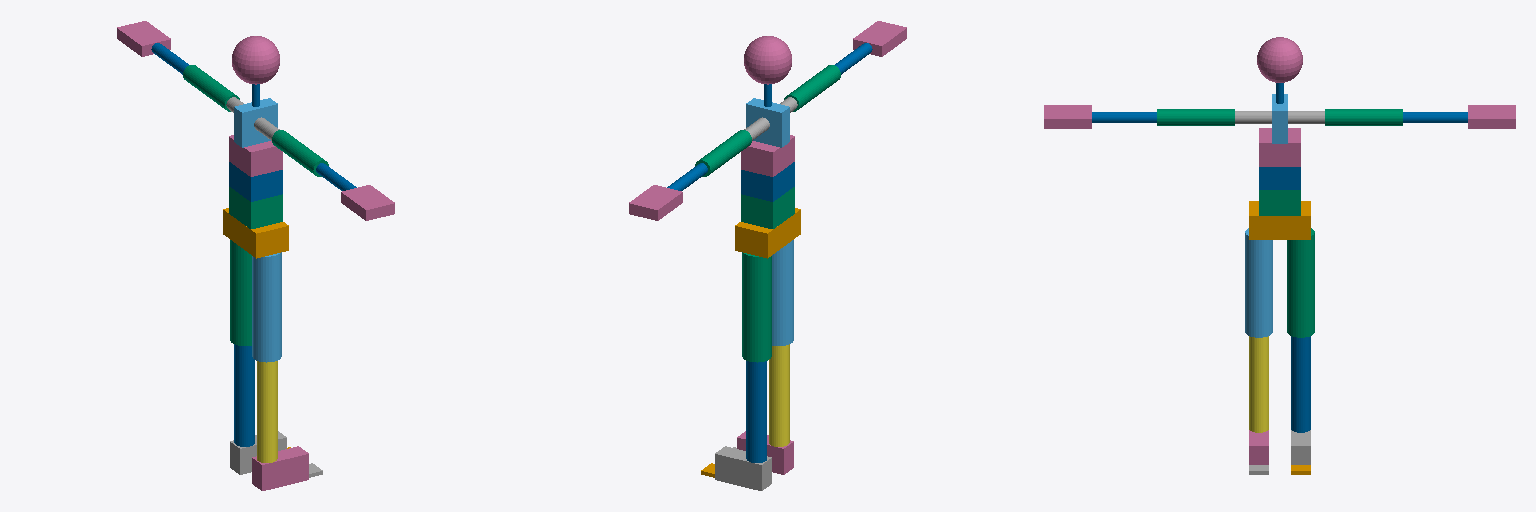
--- What the picture shows (computed from the rendered views, not written in the file) ---
Views: 3 orthographic renders of the robot side by side, from view 1: azimuth 30°, elevation 25°; view 2: azimuth 150°, elevation 25°; view 3: azimuth 270°, elevation 25°.
Model XSensStyleModel_template with 49 links and 48 joints (48 revolute), rooted at Pelvis, posed every joint at zero.
Visible links, largest first — view 1: RightUpperLeg, LeftUpperLeg, RightLowerLeg, LeftLowerLeg, Head, Pelvis, RightFoot, T12, L5, T8, L3, RightHand (+4 smaller); view 2: LeftUpperLeg, RightUpperLeg, LeftLowerLeg, RightLowerLeg, Head, Pelvis, LeftFoot, T12, L5, T8, L3, LeftHand (+4 smaller); view 3: RightUpperLeg, LeftUpperLeg, RightLowerLeg, LeftLowerLeg, Pelvis, Head, T12, RightUpperArm, LeftUpperArm, RightHand, LeftHand, L5 (+6 smaller).
Boxes of the visible links, box(x1,y1,x2,y2) form: RightUpperLeg: box(252, 252, 281, 362); LeftUpperLeg: box(230, 240, 251, 345); RightLowerLeg: box(257, 361, 277, 462); LeftLowerLeg: box(234, 344, 254, 446); Head: box(232, 36, 279, 84); Pelvis: box(223, 208, 288, 258); RightFoot: box(252, 446, 308, 490); T12: box(229, 135, 282, 176); L5: box(229, 187, 282, 228); T8: box(234, 98, 277, 147); L3: box(229, 162, 282, 201); RightHand: box(341, 185, 394, 220); LeftUpperLeg: box(742, 252, 771, 362); RightUpperLeg: box(772, 240, 793, 345); LeftLowerLeg: box(746, 361, 766, 462); RightLowerLeg: box(769, 344, 789, 446); Head: box(744, 36, 791, 84); Pelvis: box(735, 208, 800, 258); LeftFoot: box(715, 446, 771, 490); T12: box(741, 135, 794, 176); L5: box(741, 187, 794, 228); T8: box(746, 98, 789, 147); L3: box(741, 162, 794, 201); LeftHand: box(629, 185, 682, 220); RightUpperLeg: box(1245, 228, 1272, 337); LeftUpperLeg: box(1287, 228, 1314, 337); RightLowerLeg: box(1249, 336, 1268, 432); LeftLowerLeg: box(1291, 336, 1310, 432); Pelvis: box(1249, 201, 1310, 239); Head: box(1257, 37, 1302, 82); T12: box(1259, 128, 1300, 166); RightUpperArm: box(1157, 109, 1234, 125); LeftUpperArm: box(1325, 109, 1402, 125); RightHand: box(1044, 105, 1091, 128); LeftHand: box(1468, 105, 1515, 128); L5: box(1259, 190, 1300, 215).
Size in the robot's own frame: 0.2995 by 1.8 by 1.74 metres.
Geometry: primitives only (box / cylinder / sphere), no mesh files.

robot.urdf — XSensStyleModel_template:
<robot name="XSensStyleModel_template">
<!--To open this model with Gazebo replace the null masses, inertias and dimensions of the 'fake links f1 and f2'-->
    <!--LINKS-->
	<!--Link base (1)-->
	<link name="Pelvis">
        <inertial>
            <mass value="4.9968"/>
			<!--COM origin wrt pHipOrigin-->
            <origin xyz="0           0    0.049333" rpy="0 0 0" />
            <inertia ixx="0.028067" iyy="0.011715" izz="0.031651" ixy="0" ixz="0" iyz="0"/>
        </inertial>

        <visual>
			<!--box origin wrt pHipOrigin-->
            <origin xyz="0           0    0.049333" rpy="0 0 0" />
            <geometry>
                <box size="0.13554     0.24008    0.098815"/>
            </geometry>
        </visual>

        <collision>
			<!--box origin wrt pHipOrigin-->
            <origin xyz="0           0    0.049333" rpy="0 0 0" />
            <geometry>
                <box size="0.13554     0.24008    0.098815"/>
            </geometry>
        </collision>

    </link>
    <!--Chain from (2) to (7)-->
	<link name="L5_f1">
        <inertial>
            <mass value="0.0001"/>
            <origin xyz="0 0 0" rpy="0 0 0" />
            <inertia ixx="0.0003" iyy="0.0003" izz="0.0003" ixy="0" ixz="0" iyz="0"/>
        </inertial>
    </link>
	<link name="L5">
        <inertial>
            <mass value="6.3709"/>
			<!--COM origin wrt jL5S1-->
            <origin xyz="0           0    0.054602" rpy="0 0 0" />
            <inertia ixx="0.047176" iyy="0.03559" izz="0.069139" ixy="0" ixz="0" iyz="0"/>
        </inertial>

        <visual>
			<!--box origin origin wrt jL5S1-->
            <origin xyz="0           0    0.054602" rpy="0 0 0" />
            <geometry>
                <box size="0.13554     0.16014      0.1092"/>
            </geometry>
        </visual>

        <collision>
			<!--box origin origin wrt jL5S1-->
            <origin xyz="0           0    0.054602" rpy="0 0 0" />
            <geometry>
                <box size="0.13554     0.16014      0.1092"/>
            </geometry>
        </collision>
    </link>
	<link name="L3_f1">
        <inertial>
            <mass value="0.0001"/>
            <origin xyz="0 0 0" rpy="0 0 0" />
            <inertia ixx="0.0003" iyy="0.0003" izz="0.0003" ixy="0" ixz="0" iyz="0"/>
        </inertial>
    </link>
	<link name="L3">
        <inertial>
            <mass value="6.3709"/>
			<!--COM origin wrt jL4L3-->
            <origin xyz="0           0    0.049336" rpy="0 0 0" />
            <inertia ixx="0.046013" iyy="0.034427" izz="0.069139" ixy="0" ixz="0" iyz="0"/>
        </inertial>

        <visual>
			<!--box origin origin wrt jL4L3-->
            <origin xyz="0           0    0.049336" rpy="0 0 0" />
            <geometry>
                <box size="0.13554     0.16014    0.098672"/>
            </geometry>
        </visual>

        <collision>
			<!--box origin origin wrt jL4L3-->
            <origin xyz="0           0    0.049336" rpy="0 0 0" />
            <geometry>
                <box size="0.13554     0.16014    0.098672"/>
            </geometry>
        </collision>
    </link>
	<link name="T12_f1">
        <inertial>
            <mass value="0.0001"/>
            <origin xyz="0 0 0" rpy="0 0 0" />
            <inertia ixx="0.0003" iyy="0.0003" izz="0.0003" ixy="0" ixz="0" iyz="0"/>
        </inertial>
    </link>
	<link name="T12">
        <inertial>
            <mass value="6.3709"/>
			<!--COM origin wrt jL1T12-->
            <origin xyz="0           0    0.049336" rpy="0 0 0" />
            <inertia ixx="0.046013" iyy="0.034427" izz="0.069139" ixy="0" ixz="0" iyz="0"/>
        </inertial>

        <visual>
			<!--box origin origin wrt jL1T12-->
            <origin xyz="0           0    0.049336" rpy="0 0 0" />
            <geometry>
                <box size="0.13554     0.16014    0.098672"/>
            </geometry>
        </visual>

        <collision>
			<!--box origin origin wrt jL1T12-->
            <origin xyz="0           0    0.049336" rpy="0 0 0" />
            <geometry>
                <box size="0.13554     0.16014    0.098672"/>
            </geometry>
        </collision>
    </link>
	<link name="T8_f1">
        <inertial>
            <mass value="0.0001"/>
            <origin xyz="0 0 0" rpy="0 0 0" />
            <inertia ixx="0.0003" iyy="0.0003" izz="0.0003" ixy="0" ixz="0" iyz="0"/>
        </inertial>
    </link>
	<link name="T8_f2">
        <inertial>
            <mass value="0.0001"/>
            <origin xyz="0 0 0" rpy="0 0 0" />
            <inertia ixx="0.0003" iyy="0.0003" izz="0.0003" ixy="0" ixz="0" iyz="0"/>
        </inertial>
    </link>
	<link name="T8">
        <inertial>
            <mass value="2.4984"/>
			<!--COM origin wrt jT9T8-->
            <origin xyz="0           0    0.069461" rpy="0 0 0" />
            <inertia ixx="0.0047729" iyy="0.0087452" izz="0.0054818" ixy="0" ixz="0" iyz="0"/>
        </inertial>

        <visual>
			<!--box origin wrt jT9T8-->
            <origin xyz="0           0    0.069461" rpy="0 0 0" />
            <geometry>
                <box size="0.15068     0.06021     0.13892"/>
            </geometry>
        </visual>

        <collision>
			<!--box origin wrt jT9T8-->
            <origin xyz="0           0    0.069461" rpy="0 0 0" />
            <geometry>
                <box size="0.15068     0.06021     0.13892"/>
            </geometry>
        </collision>

    </link>
	<link name="Neck_f1">
        <inertial>
            <mass value="0.0001"/>
            <origin xyz="0 0 0" rpy="0 0 0" />
            <inertia ixx="0.0003" iyy="0.0003" izz="0.0003" ixy="0" ixz="0" iyz="0"/>
        </inertial>
    </link>
	<link name="Neck_f2">
        <inertial>
            <mass value="0.0001"/>
            <origin xyz="0 0 0" rpy="0 0 0" />
            <inertia ixx="0.0003" iyy="0.0003" izz="0.0003" ixy="0" ixz="0" iyz="0"/>
        </inertial>
    </link>
	<link name="Neck">
        <inertial>
            <mass value="0.74952"/>
			<!--COM origin wrt jT1C7-->
            <origin xyz="0           0    0.045917" rpy="0 0 0" />
            <inertia ixx="0.0006888" iyy="0.0006888" izz="0.00032408" ixy="0" ixz="0" iyz="0"/>
        </inertial>

        <visual>
			<!--box origin wrt jT1C7-->
            <origin xyz="0           0    0.045917" rpy="0 0 0" />
            <geometry>
		<cylinder length="0.091834" radius="0.014704"/>
            </geometry>
        </visual>

        <collision>
			<!--box origin wrt jT1C7-->
            <origin xyz="0           0    0.045917" rpy="0 0 0" />
            <geometry>
                <cylinder length="0.091834" radius="0.014704"/>
            </geometry>
        </collision>
    </link>
	<link name="Head_f1">
        <inertial>
            <mass value="0.0001"/>
            <origin xyz="0 0 0" rpy="0 0 0" />
            <inertia ixx="0.0003" iyy="0.0003" izz="0.0003" ixy="0" ixz="0" iyz="0"/>
        </inertial>
    </link>
	<link name="Head">
        <inertial>
            <mass value="2.2486"/>
			<!--COM origin wrt jC1Head-->
            <origin xyz="0           0    0.087994" rpy="0 0 0" />
            <inertia ixx="0.0069641" iyy="0.0069641" izz="0.0069641" ixy="0" ixz="0" iyz="0"/>
        </inertial>

        <visual>
			<!--boc origin wrt jC1Head-->
            <origin xyz="0           0    0.087994" rpy="0 0 0" />
            <geometry>
                <sphere radius="0.087994"/>
            </geometry>
        </visual>

        <collision>
			<!--box origin wrt jC1Head-->
            <origin xyz="0           0    0.087994" rpy="0 0 0" />
            <geometry>
                <sphere radius="0.087994"/>
            </geometry>
        </collision>

    </link>
	<!--Chain from (8) to (11)-->
	<link name="RightShoulder">
        <inertial>
            <mass value="1.9363"/>
			<!--COM origin wrt jRightC7Shoulder-->
            <origin xyz="0   -0.069978           0" rpy="0 0 0" />
            <inertia ixx="0.0034631" iyy="0.00060506" izz="0.0034631" ixy="0" ixz="0" iyz="0"/>
        </inertial>

        <visual>
			<!--box origin wrt jRightC7Shoulder. RPY rotated of pi/2.-->
            <origin xyz="0   -0.069978           0" rpy="1.5708 0 0" />
            <geometry>
                <cylinder length="0.13996" radius="0.025"/>
            </geometry>
        </visual>

        <collision>
			<!--box origin wrt jRightC7Shoulder. RPY rotated of pi/2.-->
            <origin xyz="0   -0.069978           0" rpy="1.5708 0 0" />
            <geometry>
                <cylinder length="0.13996" radius="0.025"/>
            </geometry>
        </collision>

    </link>
	<link name="RightUpperArm_f1">
        <inertial>
            <mass value="0.0001"/>
            <origin xyz="0 0 0" rpy="0 0 0" />
            <inertia ixx="0.0003" iyy="0.0003" izz="0.0003" ixy="0" ixz="0" iyz="0"/>
        </inertial>
    </link>
	<link name="RightUpperArm_f2">
        <inertial>
            <mass value="0.0001"/>
            <origin xyz="0 0 0" rpy="0 0 0" />
            <inertia ixx="0.0003" iyy="0.0003" izz="0.0003" ixy="0" ixz="0" iyz="0"/>
        </inertial>
    </link>
    <link name="RightUpperArm">
        <inertial>
            <mass value="1.8738"/>
			<!--COM origin wrt jRightShoulder-->
            <origin xyz="0    -0.15002           0" rpy="0 0 0" />
            <inertia ixx="0.014553" iyy="0.014553" izz="0.00099006" ixy="0" ixz="0" iyz="0"/>
        </inertial>

        <visual>
			<!--box origin wrt jRightShoulder. RPY rotated of pi/2.-->
            <origin xyz="0    -0.15002           0" rpy="1.5708 0 0" />
            <geometry>
                <cylinder length="0.30005" radius="0.032507"/>
            </geometry>
        </visual>

        <collision>
			<!--box origin wrt jRightShoulder. RPY rotated of pi/2.-->
            <origin xyz="0    -0.15002           0" rpy="1.5708 0 0" />
            <geometry>
                <cylinder length="0.30005" radius="0.032507"/>
            </geometry>
        </collision>

    </link>
	<link name="RightForeArm_f1">
        <inertial>
            <mass value="0.0001"/>
            <origin xyz="0 0 0" rpy="0 0 0" />
            <inertia ixx="0.0003" iyy="0.0003" izz="0.0003" ixy="0" ixz="0" iyz="0"/>
        </inertial>
    </link>
	<link name="RightForeArm">
        <inertial>
            <mass value="1.2492"/>
			<!--COM origin wrt jRightElbow-->
            <origin xyz="0    -0.12263           0" rpy="0 0 0" />
            <inertia ixx="0.0064089" iyy="0.0064089" izz="0.00029335" ixy="0" ixz="0" iyz="0"/>
        </inertial>

        <visual>
			<!--box origin wrt jRightElbow. RPY rotated of pi/2.-->
            <origin xyz="0    -0.12263           0" rpy="1.5708 0 0" />
            <geometry>
                <cylinder length="0.24527" radius="0.021672"/>
            </geometry>
        </visual>

        <collision>
			<!--box origin wrt jRightElbow. RPY rotated of pi/2.-->
            <origin xyz="0    -0.12263           0" rpy="1.5708 0 0" />
            <geometry>
                <cylinder length="0.24527" radius="0.021672"/>
            </geometry>
        </collision>

    </link>
	<link name="RightHand_f1">
        <inertial>
            <mass value="0.0001"/>
            <origin xyz="0 0 0" rpy="0 0 0" />
            <inertia ixx="0.0003" iyy="0.0003" izz="0.0003" ixy="0" ixz="0" iyz="0"/>
        </inertial>
    </link>
	<link name="RightHand">
        <inertial>
            <mass value="0.37476"/>
			<!--COM origin wrt jRightWrist-->
            <origin xyz="0   -0.091535           0" rpy="0 0 0" />
            <inertia ixx="0.0011053" iyy="0.00052385" izz="0.0015118" ixy="0" ixz="0" iyz="0"/>
        </inertial>

        <visual>
			<!--box origin wrt jRightWrist-->
            <origin xyz="0   -0.091535           0" rpy="0 0 0" />
            <geometry>
                <box size="0.12205     0.18307    0.043343"/>
            </geometry>
        </visual>

        <collision>
			<!--box origin wrt jRightWrist-->
            <origin xyz="0   -0.091535           0" rpy="0 0 0" />
            <geometry>
                <box size="0.12205     0.18307    0.043343"/>
            </geometry>
        </collision>

    </link>
	<!--Chain from (12) to (15)-->
	<link name="LeftShoulder">
        <inertial>
            <mass value="1.9363"/>
			<!--COM origin wrt jLeftC7Shoulder-->
            <origin xyz="0    0.069978           0" rpy="0 0 0" />
            <inertia ixx="0.0034631" iyy="0.00060506" izz="0.0034631" ixy="0" ixz="0" iyz="0"/>
        </inertial>

        <visual>
			<!--box origin wrt jLeftC7Shoulder. RPY rotated of pi/2.-->
            <origin xyz="0    0.069978           0" rpy="1.5708 0 0" />
            <geometry>
                <cylinder length="0.13996" radius="0.025"/>
            </geometry>
        </visual>

        <collision>
			<!--box origin wrt jLeftC7Shoulder. RPY rotated of pi/2.-->
            <origin xyz="0    0.069978           0" rpy="1.5708 0 0" />
            <geometry>
                <cylinder length="0.13996" radius="0.025"/>
            </geometry>
        </collision>

    </link>
	<link name="LeftUpperArm_f1">
        <inertial>
            <mass value="0.0001"/>
            <origin xyz="0 0 0" rpy="0 0 0" />
            <inertia ixx="0.0003" iyy="0.0003" izz="0.0003" ixy="0" ixz="0" iyz="0"/>
        </inertial>
    </link>
	<link name="LeftUpperArm_f2">
        <inertial>
            <mass value="0.0001"/>
            <origin xyz="0 0 0" rpy="0 0 0" />
            <inertia ixx="0.0003" iyy="0.0003" izz="0.0003" ixy="0" ixz="0" iyz="0"/>
        </inertial>
    </link>
	<link name="LeftUpperArm">
        <inertial>
            <mass value="1.8738"/>
			<!--COM origin wrt jLeftShoulder-->
            <origin xyz="0     0.15002           0" rpy="0 0 0" />
            <inertia ixx="0.014553" iyy="0.014553" izz="0.00099006" ixy="0" ixz="0" iyz="0"/>
        </inertial>

        <visual>
			<!--box origin wrt jLeftShoulder. RPY rotated of pi/2.-->
            <origin xyz="0     0.15002           0" rpy="1.5708 0 0" />
            <geometry>
                <cylinder length="0.30005" radius="0.032507"/>
            </geometry>
        </visual>

        <collision>
			<!--box origin wrt jLeftShoulder. RPY rotated of pi/2.-->
            <origin xyz="0     0.15002           0" rpy="1.5708 0 0" />
            <geometry>
                <cylinder length="0.30005" radius="0.032507"/>
            </geometry>
        </collision>

    </link>
	<link name="LeftForeArm_f1">
        <inertial>
            <mass value="0.0001"/>
            <origin xyz="0 0 0" rpy="0 0 0" />
            <inertia ixx="0.0003" iyy="0.0003" izz="0.0003" ixy="0" ixz="0" iyz="0"/>
        </inertial>
    </link>
	<link name="LeftForeArm">
        <inertial>
            <mass value="1.2492"/>
			<!--COM origin wrt jLeftElbow-->
            <origin xyz="0     0.12263           0" rpy="0 0 0" />
            <inertia ixx="0.0064089" iyy="0.0064089" izz="0.00029335" ixy="0" ixz="0" iyz="0"/>
        </inertial>

        <visual>
			<!--box origin wrt jLeftElbow. RPY rotated of pi/2.-->
            <origin xyz="0     0.12263           0" rpy="1.5708 0 0" />
            <geometry>
                <cylinder length="0.24527" radius="0.021672"/>
            </geometry>
        </visual>

        <collision>
			<!--box origin wrt jLeftElbow. RPY rotated of pi/2.-->
            <origin xyz="0     0.12263           0" rpy="1.5708 0 0" />
            <geometry>
                <cylinder length="0.24527" radius="0.021672"/>
            </geometry>
        </collision>

    </link>
	<link name="LeftHand_f1">
        <inertial>
            <mass value="0.0001"/>
            <origin xyz="0 0 0" rpy="0 0 0" />
            <inertia ixx="0.0003" iyy="0.0003" izz="0.0003" ixy="0" ixz="0" iyz="0"/>
        </inertial>
    </link>
	<link name="LeftHand">
        <inertial>
            <mass value="0.37476"/>
			<!--COM origin wrt jLeftWrist-->
            <origin xyz="0    0.091535           0" rpy="0 0 0" />
            <inertia ixx="0.0011053" iyy="0.00052385" izz="0.0015118" ixy="0" ixz="0" iyz="0"/>
        </inertial>

        <visual>
			<!--COM origin wrt jLeftWrist-->
            <origin xyz="0    0.091535           0" rpy="0 0 0" />
            <geometry>
                <box size="0.12205     0.18307    0.043343"/>
            </geometry>
        </visual>

        <collision>
			<!--COM origin wrt jLeftWrist-->
            <origin xyz="0    0.091535           0" rpy="0 0 0" />
            <geometry>
                <box size="0.12205     0.18307    0.043343"/>
            </geometry>
        </collision>

    </link>
	<!--Chain from (16) to (19)-->
	<link name="RightUpperLeg_f1">
        <inertial>
            <mass value="0.0001"/>
            <origin xyz="0 0 0" rpy="0 0 0" />
            <inertia ixx="0.0003" iyy="0.0003" izz="0.0003" ixy="0" ixz="0" iyz="0"/>
        </inertial>
    </link>
	<link name="RightUpperLeg_f2">
        <inertial>
            <mass value="0.0001"/>
            <origin xyz="0 0 0" rpy="0 0 0" />
            <inertia ixx="0.0003" iyy="0.0003" izz="0.0003" ixy="0" ixz="0" iyz="0"/>
        </inertial>
    </link>
    <link name="RightUpperLeg">
        <inertial>
            <mass value="7.8075"/>
			<!--COM origin wrt jRightHip-->
            <origin xyz="0           0    -0.21002" rpy="0 0 0" />
            <inertia ixx="0.12026" iyy="0.12026" izz="0.010935" ixy="0" ixz="0" iyz="0"/>
        </inertial>

        <visual>
			<!--box origin wrt jRightHip-->
            <origin xyz="0           0    -0.21002" rpy="0 0 0" />
            <geometry>
                <cylinder length="0.42004" radius="0.052927"/>
            </geometry>
        </visual>

        <collision>
			<!--box origin wrt jRightHip-->
            <origin xyz="0           0    -0.21002" rpy="0 0 0" />
            <geometry>
                <cylinder length="0.42004" radius="0.052927"/>
            </geometry>
        </collision>

    </link>
	<link name="RightLowerLeg_f1">
        <inertial>
            <mass value="0.0001"/>
            <origin xyz="0 0 0" rpy="0 0 0" />
            <inertia ixx="0.0003" iyy="0.0003" izz="0.0003" ixy="0" ixz="0" iyz="0"/>
        </inertial>
    </link>
    <link name="RightLowerLeg">
        <inertial>
            <mass value="2.2798"/>
			<!--COM origin wrt jRightKnee-->
            <origin xyz="0           0    -0.20367" rpy="0 0 0" />
            <inertia ixx="0.032328" iyy="0.032328" izz="0.0016104" ixy="0" ixz="0" iyz="0"/>
        </inertial>

        <visual>
			<!--box origin wrt jRightKnee-->
            <origin xyz="0           0    -0.20367" rpy="0 0 0" />
            <geometry>
                <cylinder length="0.40734" radius="0.037587"/>
            </geometry>
        </visual>

        <collision>
			<!--box origin wrt jRightKnee-->
            <origin xyz="0           0    -0.20367" rpy="0 0 0" />
            <geometry>
                <cylinder length="0.40734" radius="0.037587"/>
            </geometry>
        </collision>

    </link>
	<link name="RightFoot_f1">
        <inertial>
            <mass value="0.0001"/>
            <origin xyz="0 0 0" rpy="0 0 0" />
            <inertia ixx="0.0003" iyy="0.0003" izz="0.0003" ixy="0" ixz="0" iyz="0"/>
        </inertial>
    </link>
	<link name="RightFoot_f2">
        <inertial>
            <mass value="0.0001"/>
            <origin xyz="0 0 0" rpy="0 0 0" />
            <inertia ixx="0.0003" iyy="0.0003" izz="0.0003" ixy="0" ixz="0" iyz="0"/>
        </inertial>
    </link>
    <link name="RightFoot">
        <inertial>
            <mass value="0.81198"/>
			<!--COM origin wrt jRightAnkle-->
            <origin xyz="0.05524           0   -0.052405" rpy="0 0 0" />
            <inertia ixx="0.0011257" iyy="0.0033102" izz="0.0029493" ixy="0" ixz="0" iyz="0"/>
        </inertial>

        <visual>
			<!--box origin wrt jRightAnkle-->
	    	<origin xyz="0.05524           0   -0.052405" rpy="0 0 0" />
            <geometry>
                <box size="0.19477    0.075174     0.10481"/>
            </geometry>
        </visual>

        <collision>
			<!--box origin wrt jRightAnkle-->
		    <origin xyz="0.05524           0   -0.052405" rpy="0 0 0" />
	            <geometry>
	                <box size="0.19477    0.075174     0.10481"/>
	            </geometry>
        </collision>

    </link>
    <link name="RightToe">
        <inertial>
            <mass value="0.09369"/>
			<!--COM origin wrt jRightBallFoot-->
            <origin xyz="0.029147           0           0" rpy="0 0 0" />
            <inertia ixx="4.579e-05" iyy="2.8201e-05" izz="7.0653e-05" ixy="0" ixz="0" iyz="0"/>
        </inertial>

        <visual>
			<!--box origin wrt jRightBallFoot-->
            <origin xyz="0.029147           0           0" rpy="0 0 0" />
            <geometry>
                <box size="0.058294    0.075174    0.014622"/>
            </geometry>
        </visual>

        <collision>
			<!--box origin wrt jRightBallFoot-->
            <origin xyz="0.029147           0           0" rpy="0 0 0" />
            <geometry>
                <box size="0.058294    0.075174    0.014622"/>
            </geometry>
        </collision>
    </link>
	<!--Chain from (20) to (23)-->
	<link name="LeftUpperLeg_f1">
        <inertial>
            <mass value="0.0001"/>
            <origin xyz="0 0 0" rpy="0 0 0" />
            <inertia ixx="0.0003" iyy="0.0003" izz="0.0003" ixy="0" ixz="0" iyz="0"/>
        </inertial>
    </link>
	<link name="LeftUpperLeg_f2">
        <inertial>
            <mass value="0.0001"/>
            <origin xyz="0 0 0" rpy="0 0 0" />
            <inertia ixx="0.0003" iyy="0.0003" izz="0.0003" ixy="0" ixz="0" iyz="0"/>
        </inertial>
    </link>
    <link name="LeftUpperLeg">
        <inertial>
            <mass value="7.8075"/>
			<!--COM origin wrt jLeftHip-->
            <origin xyz="0           0    -0.21002" rpy="0 0 0" />
            <inertia ixx="0.12026" iyy="0.12026" izz="0.010935" ixy="0" ixz="0" iyz="0"/>
        </inertial>

        <visual>
			<!--box origin wrt jLeftHip-->
            <origin xyz="0           0    -0.21002" rpy="0 0 0" />
            <geometry>
                <cylinder length="0.42004" radius="-0.052927"/>
            </geometry>
        </visual>

        <collision>
			<!--box origin wrt jLeftHip-->
            <origin xyz="0           0    -0.21002" rpy="0 0 0" />
            <geometry>
                <cylinder length="0.42004" radius="-0.052927"/>
            </geometry>
        </collision>

    </link>
	<link name="LeftLowerLeg_f1">
        <inertial>
            <mass value="0.0001"/>
            <origin xyz="0 0 0" rpy="0 0 0" />
            <inertia ixx="0.0003" iyy="0.0003" izz="0.0003" ixy="0" ixz="0" iyz="0"/>
        </inertial>
    </link>
	<link name="LeftLowerLeg">
        <inertial>
            <mass value="2.2798"/>
			<!--COM origin wrt jLeftKnee-->
            <origin xyz="0           0    -0.20367" rpy="0 0 0" />
            <inertia ixx="0.032328" iyy="0.032328" izz="0.0016104" ixy="0" ixz="0" iyz="0"/>
        </inertial>

        <visual>
			<!--box origin wrt jLeftKnee-->
            <origin xyz="0           0    -0.20367" rpy="0 0 0" />
            <geometry>
		<cylinder length="0.40734" radius="0.037587"/>
            </geometry>
        </visual>

        <collision>
			<!--box origin wrt jLeftKnee-->
            <origin xyz="0           0    -0.20367" rpy="0 0 0" />
            <geometry>
		<cylinder length="0.40734" radius="0.037587"/>
            </geometry>
        </collision>

    </link>
	<link name="LeftFoot_f1">
        <inertial>
            <mass value="0.0001"/>
            <origin xyz="0 0 0" rpy="0 0 0" />
            <inertia ixx="0.0003" iyy="0.0003" izz="0.0003" ixy="0" ixz="0" iyz="0"/>
        </inertial>
    </link>
	<link name="LeftFoot_f2">
        <inertial>
            <mass value="0.0001"/>
            <origin xyz="0 0 0" rpy="0 0 0" />
            <inertia ixx="0.0003" iyy="0.0003" izz="0.0003" ixy="0" ixz="0" iyz="0"/>
        </inertial>
    </link>
    <link name="LeftFoot">
        <inertial>
            <mass value="0.81198"/>
			<!--COM origin wrt jLeftAnkle-->
            <origin xyz="0.05524           0   -0.052405" rpy="0 0 0" />
            <inertia ixx="0.0011257" iyy="0.0033102" izz="0.0029493" ixy="0" ixz="0" iyz="0"/>
        </inertial>

        <visual>
			<!--box origin wrt jLeftAnkle-->
	   	 	<origin xyz="0.05524           0   -0.052405" rpy="0 0 0" />
            <geometry>
                <box size="0.19477    0.075174     0.10481"/>
            </geometry>
        </visual>

        <collision>
			<!--box origin wrt jLeftAnkle-->
		    <origin xyz="0.05524           0   -0.052405" rpy="0 0 0" />
	            <geometry>
	                <box size="0.19477    0.075174     0.10481"/>
	            </geometry>
        </collision>

    </link>
	<link name="LeftToe">
        <inertial>
            <mass value="0.09369"/>
			<!--COM origin wrt jLeftBallFoot-->
            <origin xyz="0.029147           0           0" rpy="0 0 0" />
            <inertia ixx="4.579e-05" iyy="2.8201e-05" izz="7.0653e-05" ixy="0" ixz="0" iyz="0"/>
        </inertial>

        <visual>
			<!--box origin wrt jLeftBallFoot-->
            <origin xyz="0.029147           0           0" rpy="0 0 0" />
            <geometry>
                <box size="0.058294    0.075174    0.014622"/>
            </geometry>
        </visual>

        <collision>
			<!--box origin wrt jLeftBallFoot-->
            <origin xyz="0.029147           0           0" rpy="0 0 0" />
            <geometry>
                <box size="0.058294    0.075174    0.014622"/>
            </geometry>
        </collision>
    </link>


	<!--JOINTS-->
	<!--Chain from (2) to (7)-->
	<joint name="jL5S1_rotx" type="revolute">
        <origin xyz="1.5e-05           0    0.098741" rpy="0 0 0"/>
        <parent link="Pelvis"/>
        <child link="L5_f1"/>
        <dynamics damping="0.1" friction="0.0"/>
        <limit effort="30" velocity="1.0" lower="-0.610865" upper="0.610865" />
        <axis xyz="1 0 0" />
    </joint>
	<joint name="jL5S1_roty" type="revolute">
        <origin xyz="0 0 0" rpy="0 0 0"/>
        <parent link="L5_f1"/>
        <child link="L5"/>
        <dynamics damping="0.1" friction="0.0"/>
        <limit effort="30" velocity="1.0" lower="-0.523599" upper="1.309" />
        <axis xyz="0 1 0" />
    </joint>
	<joint name="jL4L3_rotx" type="revolute">
        <origin xyz="-2.7e-05           0      0.1092" rpy="0 0 0"/>
        <parent link="L5"/>
        <child link="L3_f1"/>
        <dynamics damping="0.1" friction="0.0"/>
        <limit effort="30" velocity="1.0" lower="-0.610865" upper="0.610865" />
        <axis xyz="1 0 0" />
    </joint>
	<joint name="jL4L3_roty" type="revolute">
        <origin xyz="0 0 0" rpy="0 0 0"/>
        <parent link="L3_f1"/>
        <child link="L3"/>
        <dynamics damping="0.1" friction="0.0"/>
        <limit effort="30" velocity="1.0" lower="-0.523599" upper="1.309" />
        <axis xyz="0 1 0" />
    </joint>
	<joint name="jL1T12_rotx" type="revolute">
        <origin xyz="0           0    0.098672" rpy="0 0 0"/>
        <parent link="L3"/>
        <child link="T12_f1"/>
        <dynamics damping="0.1" friction="0.0"/>
        <limit effort="30" velocity="1.0" lower="-0.610865" upper="0.610865" />
        <axis xyz="1 0 0" />
    </joint>
	<joint name="jL1T12_roty" type="revolute">
        <origin xyz="0 0 0" rpy="0 0 0"/>
        <parent link="T12_f1"/>
        <child link="T12"/>
        <dynamics damping="0.1" friction="0.0"/>
        <limit effort="30" velocity="1.0" lower="-0.523599" upper="1.309" />
        <axis xyz="0 1 0" />
    </joint>
	<joint name="jT9T8_rotx" type="revolute">
        <origin xyz="0           0    0.098672" rpy="0 0 0"/>
        <parent link="T12"/>
        <child link="T8_f1"/>
        <dynamics damping="0.1" friction="0.0"/>
        <limit effort="30" velocity="1.0" lower="-0.349066" upper="0.349066" />
        <axis xyz="1 0 0" />
    </joint>
	<joint name="jT9T8_roty" type="revolute">
        <origin xyz="0 0 0" rpy="0 0 0"/>
        <parent link="T8_f1"/>
        <child link="T8_f2"/>
        <dynamics damping="0.1" friction="0.0"/>
        <limit effort="30" velocity="1.0" lower="-0.261799" upper="0.698132" />
        <axis xyz="0 1 0" />
    </joint>
    <joint name="jT9T8_rotz" type="revolute">
        <origin xyz="0 0 0" rpy="0 0 0"/>
        <parent link="T8_f2"/>
        <child link="T8"/>
        <dynamics damping="0.1" friction="0.0"/>
        <limit effort="30" velocity="1.0" lower="-0.610865" upper="0.610865" />
        <axis xyz="0 0 1" />
    </joint>
	<joint name="jT1C7_rotx" type="revolute">
        <origin xyz="0           0     0.13892" rpy="0 0 0"/>
        <parent link="T8"/>
        <child link="Neck_f1"/>
        <dynamics damping="0.1" friction="0.0"/>
        <limit effort="30" velocity="1.0" lower="-0.610865" upper="0.610865" />
        <axis xyz="1 0 0" />
    </joint>
	<joint name="jT1C7_roty" type="revolute">
        <origin xyz="0 0 0" rpy="0 0 0"/>
        <parent link="Neck_f1"/>
        <child link="Neck_f2"/>
        <dynamics damping="0.1" friction="0.0"/>
        <limit effort="30" velocity="1.0" lower="-0.959931" upper="1.5708" />
        <axis xyz="0 1 0" />
    </joint>
    <joint name="jT1C7_rotz" type="revolute">
        <origin xyz="0 0 0" rpy="0 0 0"/>
        <parent link="Neck_f2"/>
        <child link="Neck"/>
        <dynamics damping="0.1" friction="0.0"/>
        <limit effort="30" velocity="1.0" lower="-1.22173" upper="1.22173" />
        <axis xyz="0 0 1" />
    </joint>
	<joint name="jC1Head_rotx" type="revolute">
        <origin xyz="-6.5e-05           0    0.091834" rpy="0 0 0"/>
        <parent link="Neck"/>
        <child link="Head_f1"/>
        <dynamics damping="0.1" friction="0.0"/>
        <limit effort="30" velocity="1.0" lower="-0.610865" upper="0.610865" />
        <axis xyz="1 0 0" />
    </joint>
	<joint name="jC1Head_roty" type="revolute">
        <origin xyz="0 0 0" rpy="0 0 0"/>
        <parent link="Head_f1"/>
        <child link="Head"/>
        <dynamics damping="0.1" friction="0.0"/>
        <limit effort="30" velocity="1.0" lower="-0.436332" upper="0.174533" />
        <axis xyz="0 1 0" />
    </joint>
	<!--Chain from (8) to (11)-->
	<joint name="jRightC7Shoulder_rotx" type="revolute">
        <origin xyz="0   -0.030105    0.077497" rpy="0 0 0"/>
        <parent link="T8"/>
        <child link="RightShoulder"/>
        <dynamics damping="0.1" friction="0.0"/>
        <limit effort="30" velocity="1.0" lower="-0.0872665" upper="0.785398" />
        <axis xyz="1 0 0" />
    </joint>
	<joint name="jRightShoulder_rotx" type="revolute">
        <origin xyz="0    -0.13996           0" rpy="0 0 0"/>
        <parent link="RightShoulder"/>
        <child link="RightUpperArm_f1"/>
        <dynamics damping="0.1" friction="0.0"/>
        <limit effort="30" velocity="1.0" lower="-2.35619" upper="1.5708" />
        <axis xyz="1 0 0" />
    </joint>
	<joint name="jRightShoulder_roty" type="revolute">
        <origin xyz="0 0 0" rpy="0 0 0"/>
        <parent link="RightUpperArm_f1"/>
        <child link="RightUpperArm_f2"/>
        <dynamics damping="0.1" friction="0.0"/>
        <limit effort="30" velocity="1.0" lower="-1.5708" upper="1.5708" />
        <axis xyz="0 1 0" />
    </joint>
    <joint name="jRightShoulder_rotz" type="revolute">
        <origin xyz="0 0 0" rpy="0 0 0"/>
        <parent link="RightUpperArm_f2"/>
        <child link="RightUpperArm"/>
        <dynamics damping="0.1" friction="0.0"/>
        <limit effort="30" velocity="1.0" lower="-0.785398" upper="3.14159" />
        <axis xyz="0 0 1" />
    </joint>
	<joint name="jRightElbow_roty" type="revolute">
        <origin xyz="0    -0.30005           0" rpy="0 0 0"/>
        <parent link="RightUpperArm"/>
        <child link="RightForeArm_f1"/>
        <dynamics damping="0.1" friction="0.0"/>
        <limit effort="30" velocity="1.0" lower="-1.5708" upper="1.48353" />
        <axis xyz="0 1 0" />
    </joint>
	<joint name="jRightElbow_rotz" type="revolute">
        <origin xyz="0 0 0" rpy="0 0 0"/>
        <parent link="RightForeArm_f1"/>
        <child link="RightForeArm"/>
        <dynamics damping="0.1" friction="0.0"/>
        <limit effort="30" velocity="1.0" lower="0" upper="2.53073" />
        <axis xyz="0 0 1" />
    </joint>
	<joint name="jRightWrist_rotx" type="revolute">
        <origin xyz="1e-06    -0.24527           0" rpy="0 0 0"/>
        <parent link="RightForeArm"/>
        <child link="RightHand_f1"/>
        <dynamics damping="0.1" friction="0.0"/>
        <limit effort="30" velocity="1.0" lower="-0.872665" upper="1.0472" />
        <axis xyz="1 0 0" />
    </joint>
	<joint name="jRightWrist_rotz" type="revolute">
        <origin xyz="0 0 0" rpy="0 0 0"/>
        <parent link="RightHand_f1"/>
        <child link="RightHand"/>
        <dynamics damping="0.1" friction="0.0"/>
        <limit effort="30" velocity="1.0" lower="-0.523599" upper="0.349066" />
        <axis xyz="0 0 1" />
    </joint>
	<!--Chain from (12) to (15)-->
	<joint name="jLeftC7Shoulder_rotx" type="revolute">
        <origin xyz="0    0.030105    0.077497" rpy="0 0 0"/>
        <parent link="T8"/>
        <child link="LeftShoulder"/>
        <dynamics damping="0.1" friction="0.0"/>
        <limit effort="30" velocity="1.0" lower="-0.0872665" upper="0.785398" />
        <axis xyz="1 0 0" />
    </joint>
	<joint name="jLeftShoulder_rotx" type="revolute">
        <origin xyz="0     0.13996           0" rpy="0 0 0"/>
        <parent link="LeftShoulder"/>
        <child link="LeftUpperArm_f1"/>
        <dynamics damping="0.1" friction="0.0"/>
        <limit effort="30" velocity="1.0" lower="-1.5708" upper="2.35619" />
        <axis xyz="1 0 0" />
    </joint>
	<joint name="jLeftShoulder_roty" type="revolute">
        <origin xyz="0 0 0" rpy="0 0 0"/>
        <parent link="LeftUpperArm_f1"/>
        <child link="LeftUpperArm_f2"/>
        <dynamics damping="0.1" friction="0.0"/>
        <limit effort="30" velocity="1.0" lower="-1.5708" upper="1.5708" />
        <axis xyz="0 1 0" />
    </joint>
    <joint name="jLeftShoulder_rotz" type="revolute">
        <origin xyz="0 0 0" rpy="0 0 0"/>
        <parent link="LeftUpperArm_f2"/>
        <child link="LeftUpperArm"/>
        <dynamics damping="0.1" friction="0.0"/>
        <limit effort="30" velocity="1.0" lower="-3.14159" upper="0.785398" />
        <axis xyz="0 0 1" />
    </joint>
    <joint name="jLeftElbow_roty" type="revolute">
        <origin xyz="0     0.30005           0" rpy="0 0 0"/>
        <parent link="LeftUpperArm"/>
        <child link="LeftForeArm_f1"/>
        <dynamics damping="0.1" friction="0.0"/>
        <limit effort="30" velocity="1.0" lower="-1.5708" upper="1.48353" />
        <axis xyz="0 1 0" />
    </joint>
    <joint name="jLeftElbow_rotz" type="revolute">
        <origin xyz="0 0 0" rpy="0 0 0"/>
        <parent link="LeftForeArm_f1"/>
        <child link="LeftForeArm"/>
        <dynamics damping="0.1" friction="0.0"/>
        <limit effort="30" velocity="1.0" lower="-2.53073" upper="0" />
        <axis xyz="0 0 1" />
    </joint>
	<joint name="jLeftWrist_rotx" type="revolute">
        <origin xyz="1e-06     0.24527           0" rpy="0 0 0"/>
        <parent link="LeftForeArm"/>
        <child link="LeftHand_f1"/>
        <dynamics damping="0.1" friction="0.0"/>
        <limit effort="30" velocity="1.0" lower="-1.0472" upper="0.872665" />
        <axis xyz="1 0 0" />
    </joint>
	<joint name="jLeftWrist_rotz" type="revolute">
        <origin xyz="0 0 0" rpy="0 0 0"/>
        <parent link="LeftHand_f1"/>
        <child link="LeftHand"/>
        <dynamics damping="0.1" friction="0.0"/>
        <limit effort="30" velocity="1.0" lower="-0.349066" upper="0.523599" />
        <axis xyz="0 0 1" />
    </joint>
	<!--Chain from (16) to (19)-->
	<joint name="jRightHip_rotx" type="revolute">
        <origin xyz="-8e-06   -0.080069    -7.4e-05" rpy="0 0 0"/>
        <parent link="Pelvis"/>
        <child link="RightUpperLeg_f1"/>
        <dynamics damping="0.1" friction="0.0"/>
        <limit effort="30" velocity="1.0" lower="-0.523599" upper="0.785398" />
        <axis xyz="1 0 0" />
    </joint>
	<joint name="jRightHip_roty" type="revolute">
        <origin xyz="0 0 0" rpy="0 0 0"/>
        <parent link="RightUpperLeg_f1"/>
        <child link="RightUpperLeg_f2"/>
        <dynamics damping="0.1" friction="0.0"/>
        <limit effort="30" velocity="1.0" lower="-0.261799" upper="2.0944" />
        <axis xyz="0 1 0" />
    </joint>
    <joint name="jRightHip_rotz" type="revolute">
        <origin xyz="0 0 0" rpy="0 0 0"/>
        <parent link="RightUpperLeg_f2"/>
        <child link="RightUpperLeg"/>
        <dynamics damping="0.1" friction="0.0"/>
        <limit effort="30" velocity="1.0" lower="-0.785398" upper="0.785398" />
        <axis xyz="0 0 1" />
    </joint>
	<joint name="jRightKnee_roty" type="revolute">
        <origin xyz="8e-06           0    -0.42004" rpy="0 0 0"/>
        <parent link="RightUpperLeg"/>
        <child link="RightLowerLeg_f1"/>
        <dynamics damping="0.1" friction="0.0"/>
        <limit effort="30" velocity="1.0" lower="0" upper="2.35619" />
        <axis xyz="0 1 0" />
    </joint>
	<joint name="jRightKnee_rotz" type="revolute">
        <origin xyz="0 0 0" rpy="0 0 0"/>
        <parent link="RightLowerLeg_f1"/>
        <child link="RightLowerLeg"/>
        <dynamics damping="0.1" friction="0.0"/>
        <limit effort="30" velocity="1.0" lower="-0.698132" upper="0.523599" />
        <axis xyz="0 0 1" />
    </joint>
	<joint name="jRightAnkle_rotx" type="revolute">
        <origin xyz="0.00046           0    -0.40734" rpy="0 0 0"/>
        <parent link="RightLowerLeg"/>
        <child link="RightFoot_f1"/>
        <dynamics damping="0.1" friction="0.0"/>
        <limit effort="30" velocity="1.0" lower="-0.610865" upper="0.785398" />
        <axis xyz="1 0 0" />
    </joint>
	<joint name="jRightAnkle_roty" type="revolute">
        <origin xyz="0 0 0" rpy="0 0 0"/>
        <parent link="RightFoot_f1"/>
        <child link="RightFoot_f2"/>
        <dynamics damping="0.1" friction="0.0"/>
        <limit effort="30" velocity="1.0" lower="-0.523599" upper="0.872665" />
        <axis xyz="0 1 0" />
    </joint>
    <joint name="jRightAnkle_rotz" type="revolute">
        <origin xyz="0 0 0" rpy="0 0 0"/>
        <parent link="RightFoot_f2"/>
        <child link="RightFoot"/>
        <dynamics damping="0.1" friction="0.0"/>
        <limit effort="30" velocity="1.0" lower="-0.436332" upper="0.872665" />
        <axis xyz="0 0 1" />
    </joint>
	<joint name="jRightBallFoot_roty" type="revolute">
        <origin xyz="0.15263           0   -0.088953" rpy="0 0 0"/>
        <parent link="RightFoot"/>
        <child link="RightToe"/>
        <dynamics damping="0.1" friction="0.0"/>
        <limit effort="30" velocity="1.0" lower="-0.174533" upper="1.5708" />
        <axis xyz="0 1 0" />
    </joint>
	<!--Chain from (20) to (23)-->
	<joint name="jLeftHip_rotx" type="revolute">
        <origin xyz="-8e-06    0.080069    -7.4e-05" rpy="0 0 0"/>
        <parent link="Pelvis"/>
        <child link="LeftUpperLeg_f1"/>
        <dynamics damping="0.1" friction="0.0"/>
        <limit effort="30" velocity="1.0" lower="-0.523599" upper="0.785398" />
        <axis xyz="1 0 0" />
    </joint>
	<joint name="jLeftHip_roty" type="revolute">
        <origin xyz="0 0 0" rpy="0 0 0"/>
        <parent link="LeftUpperLeg_f1"/>
        <child link="LeftUpperLeg_f2"/>
        <dynamics damping="0.1" friction="0.0"/>
        <limit effort="30" velocity="1.0" lower="-0.261799" upper="2.0944" />
        <axis xyz="0 1 0" />
    </joint>
    <joint name="jLeftHip_rotz" type="revolute">
        <origin xyz="0 0 0" rpy="0 0 0"/>
        <parent link="LeftUpperLeg_f2"/>
        <child link="LeftUpperLeg"/>
        <dynamics damping="0.1" friction="0.0"/>
        <limit effort="30" velocity="1.0" lower="-0.785398" upper="0.785398" />
        <axis xyz="0 0 1" />
    </joint>
	<joint name="jLeftKnee_roty" type="revolute">
        <origin xyz="8e-06           0    -0.42004" rpy="0 0 0"/>
        <parent link="LeftUpperLeg"/>
        <child link="LeftLowerLeg_f1"/>
        <dynamics damping="0.1" friction="0.0"/>
        <limit effort="30" velocity="1.0" lower="0" upper="2.35619" />
        <axis xyz="0 1 0" />
    </joint>
    <joint name="jLeftKnee_rotz" type="revolute">
        <origin xyz="0 0 0" rpy="0 0 0"/>
        <parent link="LeftLowerLeg_f1"/>
        <child link="LeftLowerLeg"/>
        <dynamics damping="0.1" friction="0.0"/>
        <limit effort="30" velocity="1.0" lower="-0.523599" upper="0.698132" />
        <axis xyz="0 0 1" />
    </joint>
	<joint name="jLeftAnkle_rotx" type="revolute">
        <origin xyz="0.00046           0    -0.40734" rpy="0 0 0"/>
        <parent link="LeftLowerLeg"/>
        <child link="LeftFoot_f1"/>
        <dynamics damping="0.1" friction="0.0"/>
        <limit effort="30" velocity="1.0" lower="-0.610865" upper="0.785398" />
        <axis xyz="1 0 0" />
    </joint>
	<joint name="jLeftAnkle_roty" type="revolute">
        <origin xyz="0 0 0" rpy="0 0 0"/>
        <parent link="LeftFoot_f1"/>
        <child link="LeftFoot_f2"/>
        <dynamics damping="0.1" friction="0.0"/>
        <limit effort="30" velocity="1.0" lower="-0.523599" upper="0.872665" />
        <axis xyz="0 1 0" />
    </joint>
    <joint name="jLeftAnkle_rotz" type="revolute">
        <origin xyz="0 0 0" rpy="0 0 0"/>
        <parent link="LeftFoot_f2"/>
        <child link="LeftFoot"/>
        <dynamics damping="0.1" friction="0.0"/>
        <limit effort="30" velocity="1.0" lower="-0.872665" upper="0.436332" />
        <axis xyz="0 0 1" />
    </joint>
	<joint name="jLeftBallFoot_roty" type="revolute">
        <origin xyz="0.15263           0   -0.088953" rpy="0 0 0"/>
        <parent link="LeftFoot"/>
        <child link="LeftToe"/>
        <dynamics damping="0.1" friction="0.0"/>
        <limit effort="30" velocity="1.0" lower="-0.174533" upper="1.5708" />
        <axis xyz="0 1 0" />
    </joint>

	<!-- Sensor  1-->
<sensor name="Pelvis_gyro" type="gyroscope">
<parent link="Pelvis"/>
<origin xyz="-0.055881  0.00020678    0.095148" rpy="0.094617      1.0086     -3.0304"/>
</sensor>
<sensor name="Pelvis_accelerometer" type="accelerometer">
<parent link="Pelvis"/>
<origin xyz="-0.055881  0.00020678    0.095148" rpy="0.094617      1.0086     -3.0304"/>
</sensor>
<!-- Sensor  2-->
<sensor name="T8_gyro" type="gyroscope">
<parent link="T8"/>
<origin xyz="0.14068  6.2838e-06    0.077433" rpy="-0.077161      1.1064    -0.17687"/>
</sensor>
<sensor name="T8_accelerometer" type="accelerometer">
<parent link="T8"/>
<origin xyz="0.14068  6.2838e-06    0.077433" rpy="-0.077161      1.1064    -0.17687"/>
</sensor>
<!-- Sensor  3-->
<sensor name="Head_gyro" type="gyroscope">
<parent link="Head"/>
<origin xyz="-0.06975 -2.1628e-05    0.076683" rpy="2.3836  -0.0032688     -1.7942"/>
</sensor>
<sensor name="Head_accelerometer" type="accelerometer">
<parent link="Head"/>
<origin xyz="-0.06975 -2.1628e-05    0.076683" rpy="2.3836  -0.0032688     -1.7942"/>
</sensor>
<!-- Sensor  4-->
<sensor name="RightShoulder_gyro" type="gyroscope">
<parent link="RightShoulder"/>
<origin xyz="-0.020002   -0.049977   -0.059953" rpy="1.0711    -0.16714    -0.95844"/>
</sensor>
<sensor name="RightShoulder_accelerometer" type="accelerometer">
<parent link="RightShoulder"/>
<origin xyz="-0.020002   -0.049977   -0.059953" rpy="1.0711    -0.16714    -0.95844"/>
</sensor>
<!-- Sensor  5-->
<sensor name="RightUpperArm_gyro" type="gyroscope">
<parent link="RightUpperArm"/>
<origin xyz="-0.020047   -0.099952    0.019983" rpy="-0.10514    0.025819     -1.5224"/>
</sensor>
<sensor name="RightUpperArm_accelerometer" type="accelerometer">
<parent link="RightUpperArm"/>
<origin xyz="-0.020047   -0.099952    0.019983" rpy="-0.10514    0.025819     -1.5224"/>
</sensor>
<!-- Sensor  6-->
<sensor name="RightForeArm_gyro" type="gyroscope">
<parent link="RightForeArm"/>
<origin xyz="0.0018328    -0.20024    0.019978" rpy="-0.41688   -0.021387     -1.2563"/>
</sensor>
<sensor name="RightForeArm_accelerometer" type="accelerometer">
<parent link="RightForeArm"/>
<origin xyz="0.0018328    -0.20024    0.019978" rpy="-0.41688   -0.021387     -1.2563"/>
</sensor>
<!-- Sensor  7-->
<sensor name="RightHand_gyro" type="gyroscope">
<parent link="RightHand"/>
<origin xyz="-7.5053e-06   -0.054958    0.020014" rpy="-0.37028    0.088894     -1.5331"/>
</sensor>
<sensor name="RightHand_accelerometer" type="accelerometer">
<parent link="RightHand"/>
<origin xyz="-7.5053e-06   -0.054958    0.020014" rpy="-0.37028    0.088894     -1.5331"/>
</sensor>
<!-- Sensor  8-->
<sensor name="LeftShoulder_gyro" type="gyroscope">
<parent link="LeftShoulder"/>
<origin xyz="-0.019992    0.049973    -0.05994" rpy="-1.0318    -0.19235      1.1962"/>
</sensor>
<sensor name="LeftShoulder_accelerometer" type="accelerometer">
<parent link="LeftShoulder"/>
<origin xyz="-0.019992    0.049973    -0.05994" rpy="-1.0318    -0.19235      1.1962"/>
</sensor>
<!-- Sensor  9-->
<sensor name="LeftUpperArm_gyro" type="gyroscope">
<parent link="LeftUpperArm"/>
<origin xyz="-0.020025    0.099939    0.019989" rpy="0.064789   -0.084026      1.4526"/>
</sensor>
<sensor name="LeftUpperArm_accelerometer" type="accelerometer">
<parent link="LeftUpperArm"/>
<origin xyz="-0.020025    0.099939    0.019989" rpy="0.064789   -0.084026      1.4526"/>
</sensor>
<!-- Sensor  10-->
<sensor name="LeftForeArm_gyro" type="gyroscope">
<parent link="LeftForeArm"/>
<origin xyz="0.0017837     0.20024    0.020006" rpy="0.72472      0.1279      1.0326"/>
</sensor>
<sensor name="LeftForeArm_accelerometer" type="accelerometer">
<parent link="LeftForeArm"/>
<origin xyz="0.0017837     0.20024    0.020006" rpy="0.72472      0.1279      1.0326"/>
</sensor>
<!-- Sensor  11-->
<sensor name="LeftHand_gyro" type="gyroscope">
<parent link="LeftHand"/>
<origin xyz="-3.1578e-05    0.054994    0.019979" rpy="-0.88757   0.0059868      1.7618"/>
</sensor>
<sensor name="LeftHand_accelerometer" type="accelerometer">
<parent link="LeftHand"/>
<origin xyz="-3.1578e-05    0.054994    0.019979" rpy="-0.88757   0.0059868      1.7618"/>
</sensor>
<!-- Sensor  12-->
<sensor name="RightUpperLeg_gyro" type="gyroscope">
<parent link="RightUpperLeg"/>
<origin xyz="0.013338   -0.044248    -0.25239" rpy="-3.0702      1.3416      1.8771"/>
</sensor>
<sensor name="RightUpperLeg_accelerometer" type="accelerometer">
<parent link="RightUpperLeg"/>
<origin xyz="0.013338   -0.044248    -0.25239" rpy="-3.0702      1.3416      1.8771"/>
</sensor>
<!-- Sensor  13-->
<sensor name="RightLowerLeg_gyro" type="gyroscope">
<parent link="RightLowerLeg"/>
<origin xyz="0.031063   0.0066293    -0.13321" rpy="-3.0874      1.4644     -2.7215"/>
</sensor>
<sensor name="RightLowerLeg_accelerometer" type="accelerometer">
<parent link="RightLowerLeg"/>
<origin xyz="0.031063   0.0066293    -0.13321" rpy="-3.0874      1.4644     -2.7215"/>
</sensor>
<!-- Sensor  14-->
<sensor name="RightFoot_gyro" type="gyroscope">
<parent link="RightFoot"/>
<origin xyz="0.089471   0.0011861   -0.012554" rpy="-0.07906     0.83912    -0.38361"/>
</sensor>
<sensor name="RightFoot_accelerometer" type="accelerometer">
<parent link="RightFoot"/>
<origin xyz="0.089471   0.0011861   -0.012554" rpy="-0.07906     0.83912    -0.38361"/>
</sensor>
<!-- Sensor  15-->
<sensor name="LeftUpperLeg_gyro" type="gyroscope">
<parent link="LeftUpperLeg"/>
<origin xyz="0.01207    0.043037    -0.25269" rpy="-3.11      1.3262    -0.93453"/>
</sensor>
<sensor name="LeftUpperLeg_accelerometer" type="accelerometer">
<parent link="LeftUpperLeg"/>
<origin xyz="0.01207    0.043037    -0.25269" rpy="-3.11      1.3262    -0.93453"/>
</sensor>
<!-- Sensor  16-->
<sensor name="LeftLowerLeg_gyro" type="gyroscope">
<parent link="LeftLowerLeg"/>
<origin xyz="0.030962  -0.0070902    -0.13319" rpy="-2.05      1.5347     -2.3088"/>
</sensor>
<sensor name="LeftLowerLeg_accelerometer" type="accelerometer">
<parent link="LeftLowerLeg"/>
<origin xyz="0.030962  -0.0070902    -0.13319" rpy="-2.05      1.5347     -2.3088"/>
</sensor>
<!-- Sensor  17-->
<sensor name="LeftFoot_gyro" type="gyroscope">
<parent link="LeftFoot"/>
<origin xyz="0.089484  -0.0013526   -0.012584" rpy="-0.35797     0.75899     0.20577"/>
</sensor>
<sensor name="LeftFoot_accelerometer" type="accelerometer">
<parent link="LeftFoot"/>
<origin xyz="0.089484  -0.0013526   -0.012584" rpy="-0.35797     0.75899     0.20577"/>
</sensor>


</robot>
